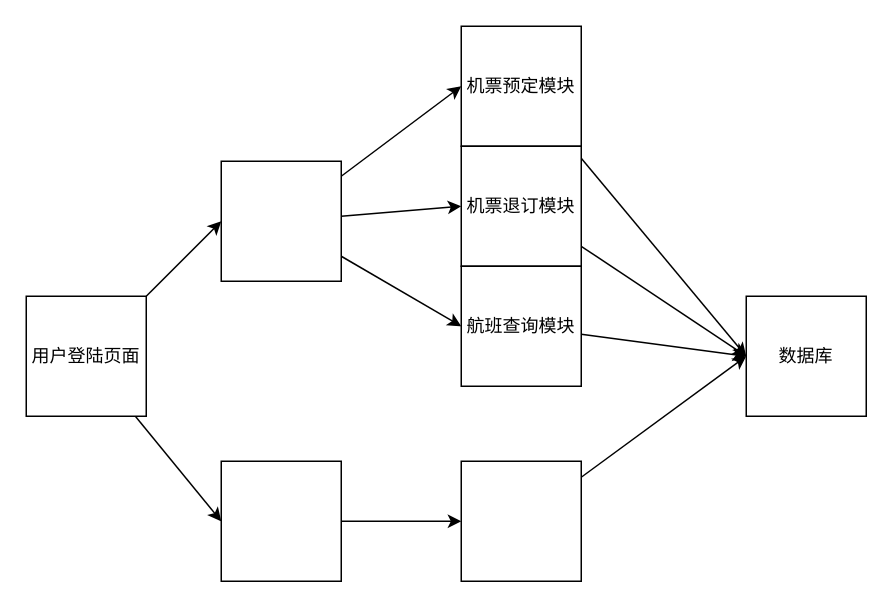
The diagram is 893 pixels wide and 608 high, and some of its shapes have lost their labels. The box of each missing label's shape, as (x1, y1, x2, y2) in pixels:
用户界面: (220, 160, 341, 281)
管理员界面: (220, 460, 341, 581)
系统管理模块: (460, 460, 581, 581)
